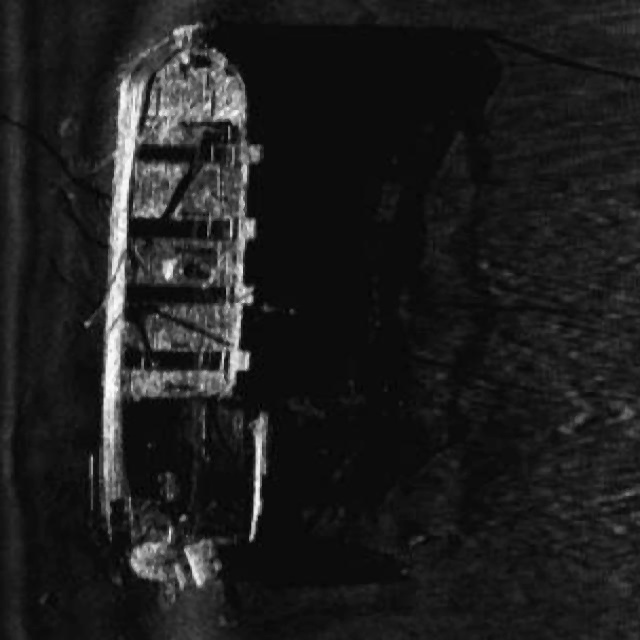Ship: (75, 5, 287, 633)
